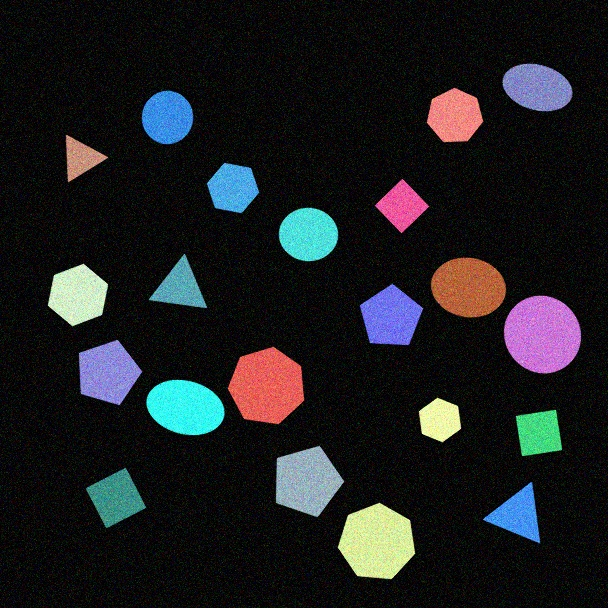Circulo: (503, 295, 582, 374), (278, 207, 339, 262), (141, 90, 194, 145)
Elipse: (430, 257, 507, 318), (146, 379, 225, 436), (502, 63, 573, 112)
Heptagono: (227, 346, 305, 425), (337, 502, 416, 580), (426, 87, 484, 143)
Hexagono: (47, 263, 109, 327), (206, 162, 260, 214), (418, 397, 462, 443)
Pentagono: (275, 445, 345, 518), (78, 339, 143, 406), (359, 283, 424, 346)
Quadrado: (85, 467, 147, 529), (374, 178, 430, 234), (515, 409, 563, 457)
Triangulo: (483, 481, 541, 544), (148, 254, 208, 309), (65, 134, 109, 183)
